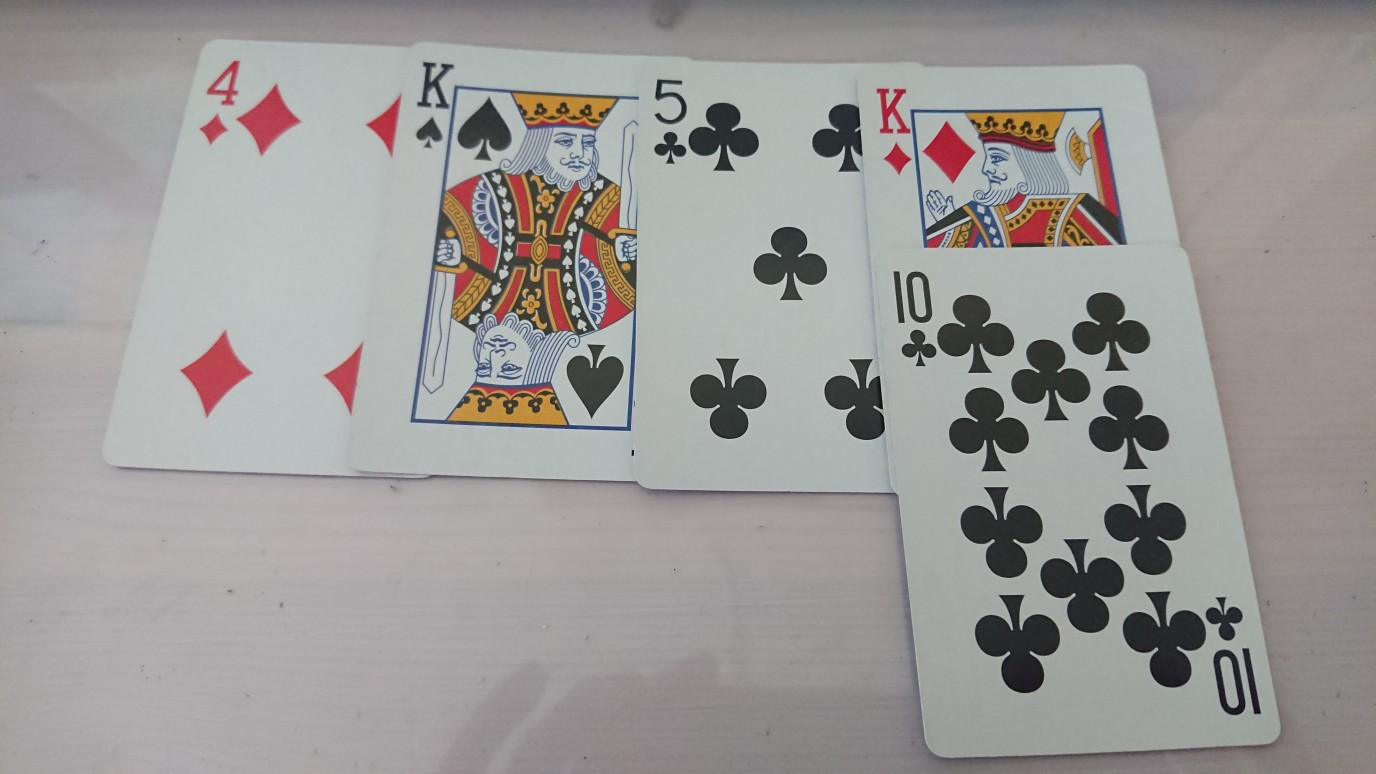10C: (887, 265, 941, 373)
4D: (196, 55, 243, 149)
5C: (650, 75, 690, 170)
KD: (870, 83, 916, 180)
KS: (414, 58, 457, 153)
